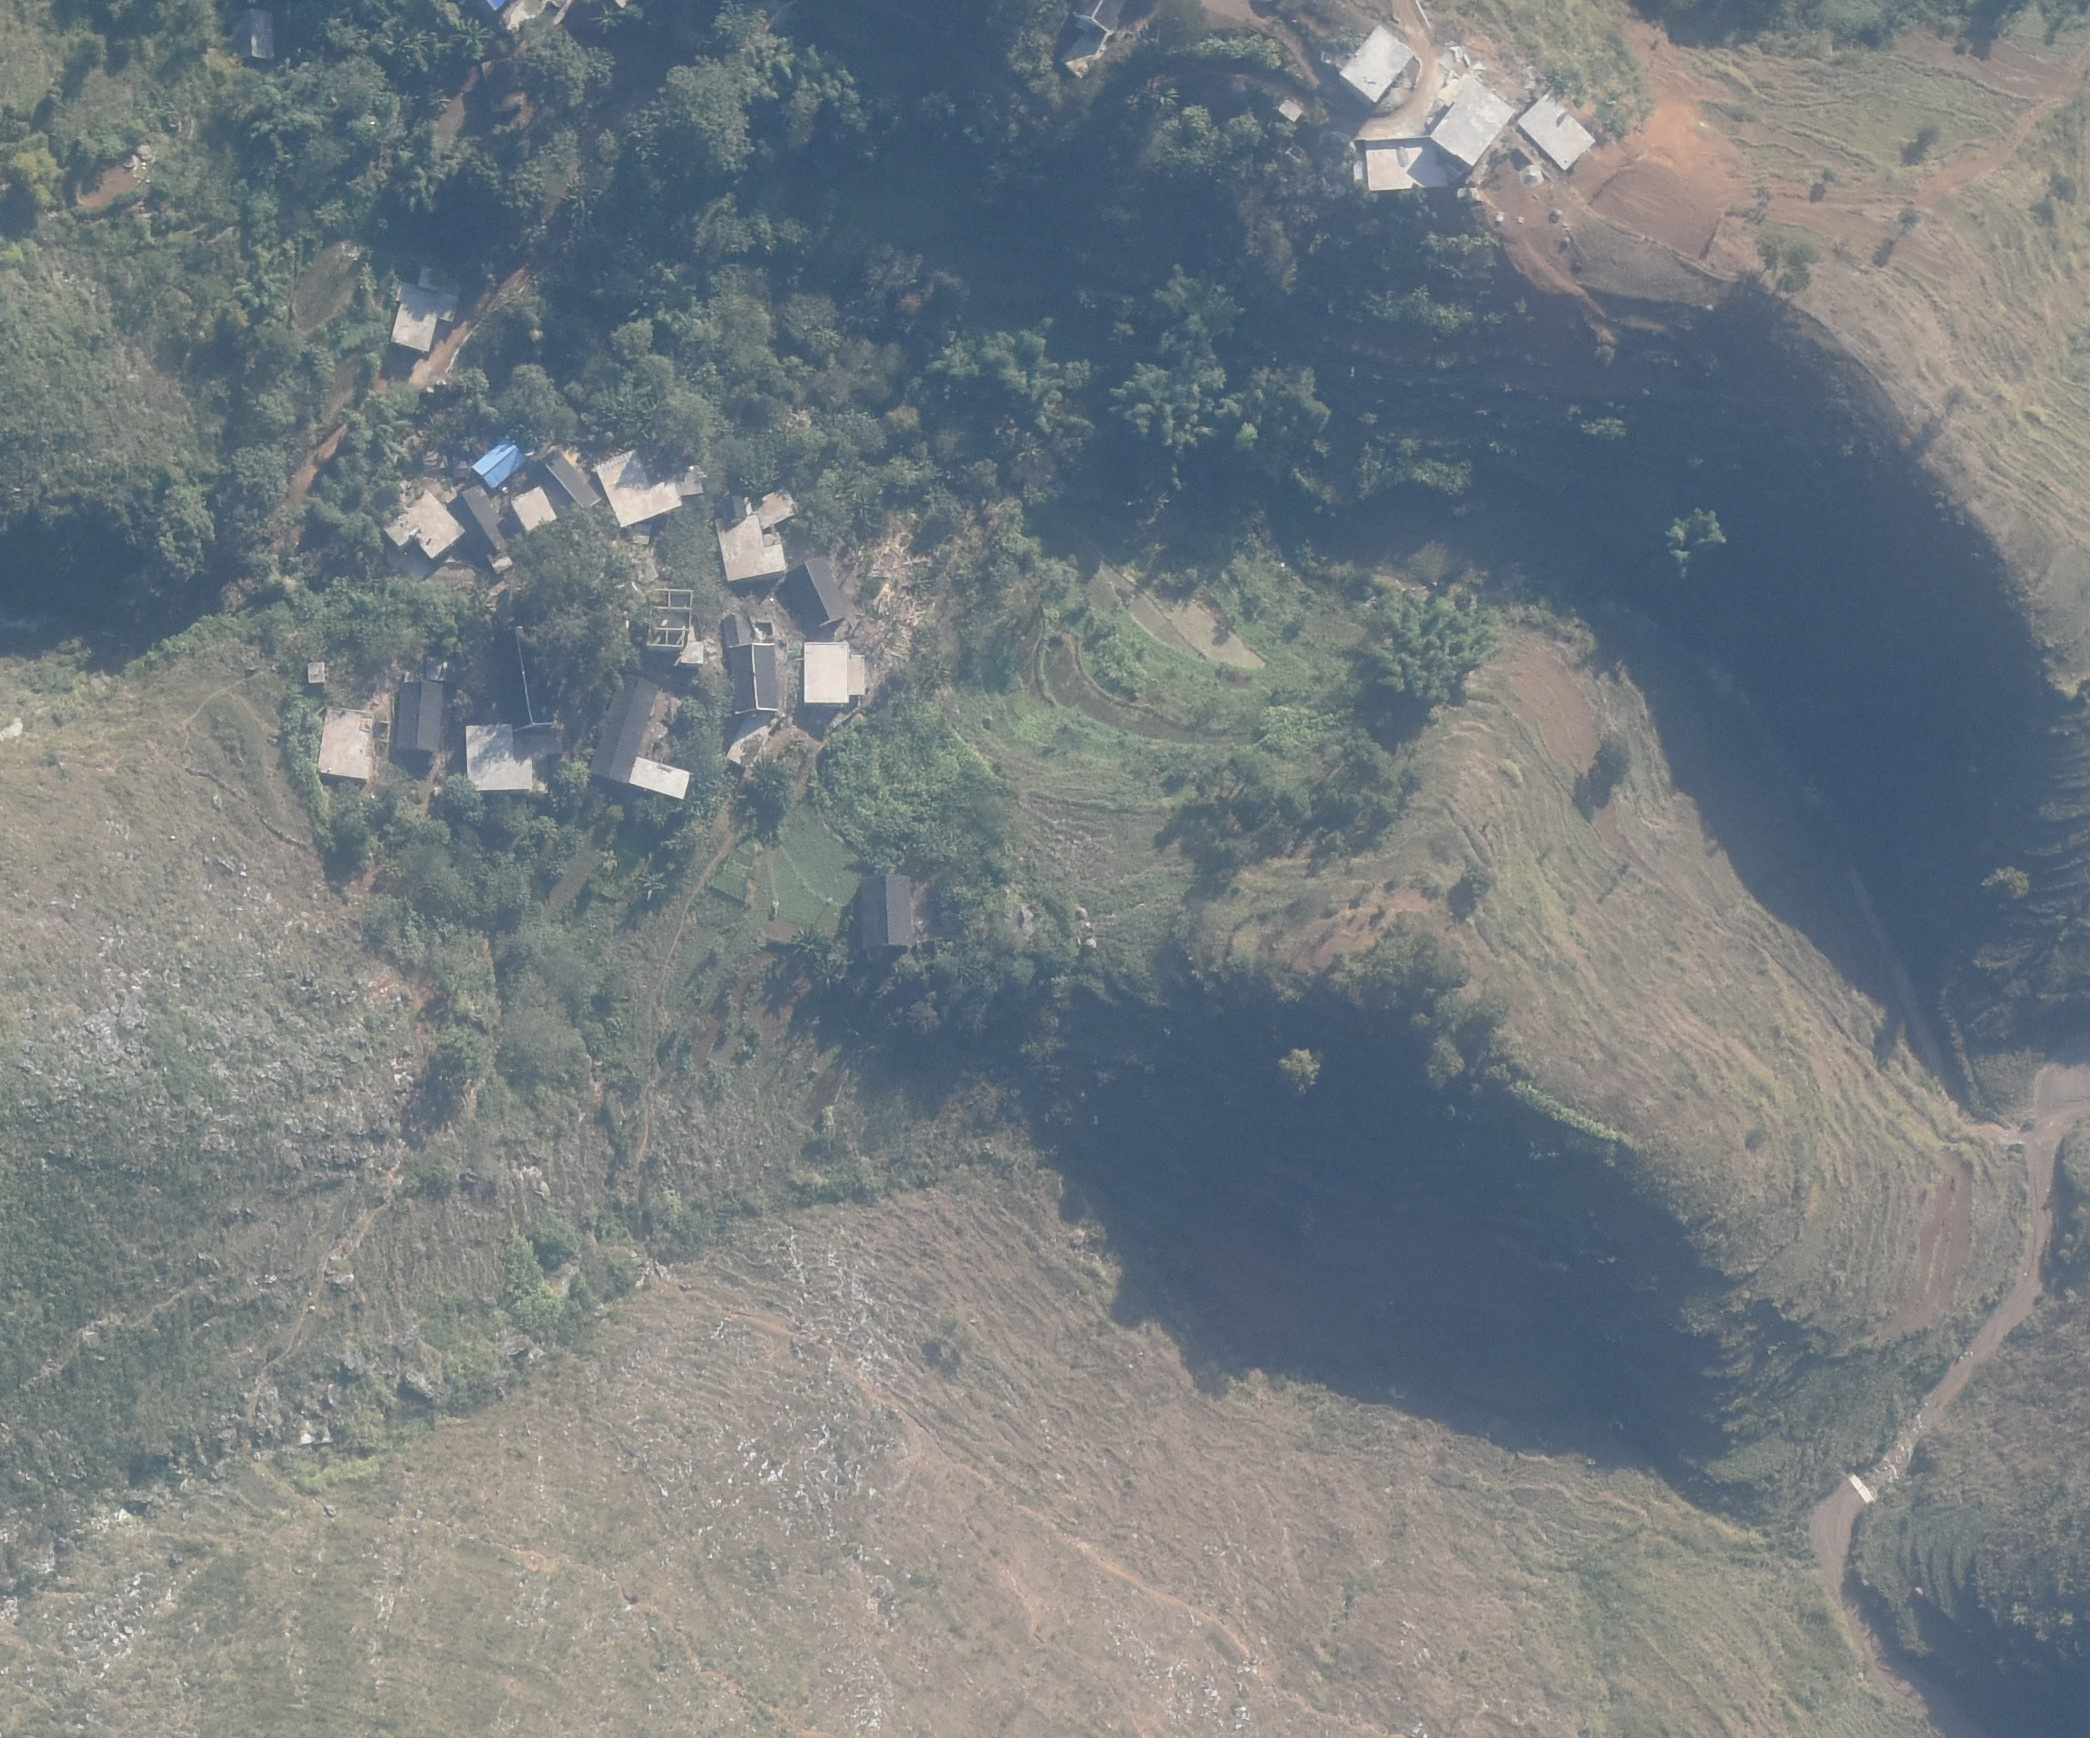building: (1431, 76, 1513, 168), (591, 673, 662, 779), (596, 449, 682, 528), (714, 494, 788, 582), (496, 624, 557, 729), (1517, 93, 1596, 170), (380, 491, 466, 561), (389, 267, 458, 354), (1341, 26, 1414, 103), (449, 488, 507, 567), (1357, 139, 1445, 191), (857, 874, 915, 949), (316, 707, 373, 779), (467, 725, 532, 788), (538, 451, 601, 513), (788, 557, 845, 625), (804, 640, 863, 704), (728, 643, 781, 713), (393, 682, 446, 752), (471, 437, 531, 488), (646, 589, 694, 651), (631, 755, 690, 800), (233, 9, 275, 69), (513, 488, 556, 534), (719, 609, 752, 649), (674, 467, 700, 493), (1279, 97, 1302, 122), (309, 660, 325, 681)
